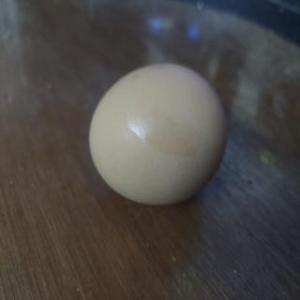egg: (86, 60, 230, 210)
